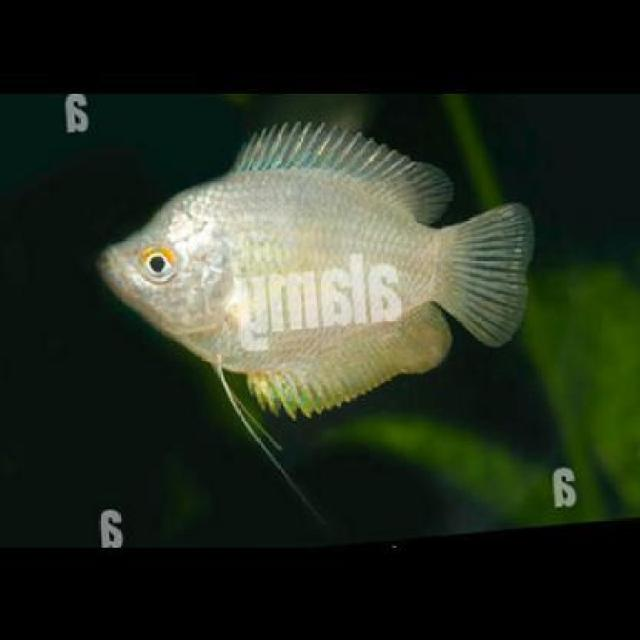Gourami: (96, 121, 538, 421)
